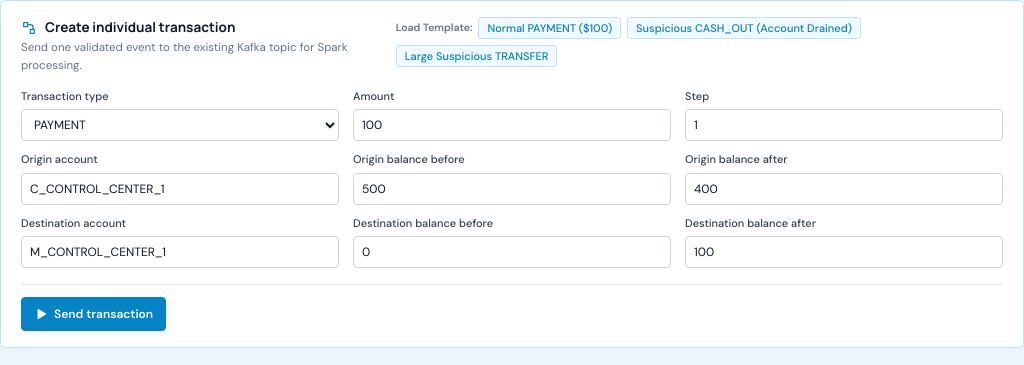
Scenario: ManualTransactionForm › sends the existing transaction field names and shows Kafka acknowledgement
Click the button "Send transaction".
click(94, 314)  # box [21, 297, 166, 331]
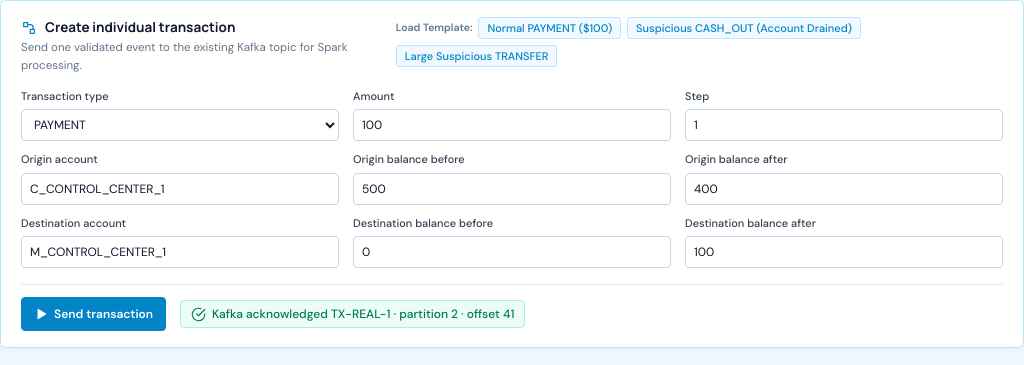
Expected: the message shows "partition 2 · offset 41", [212, 306, 514, 322]
